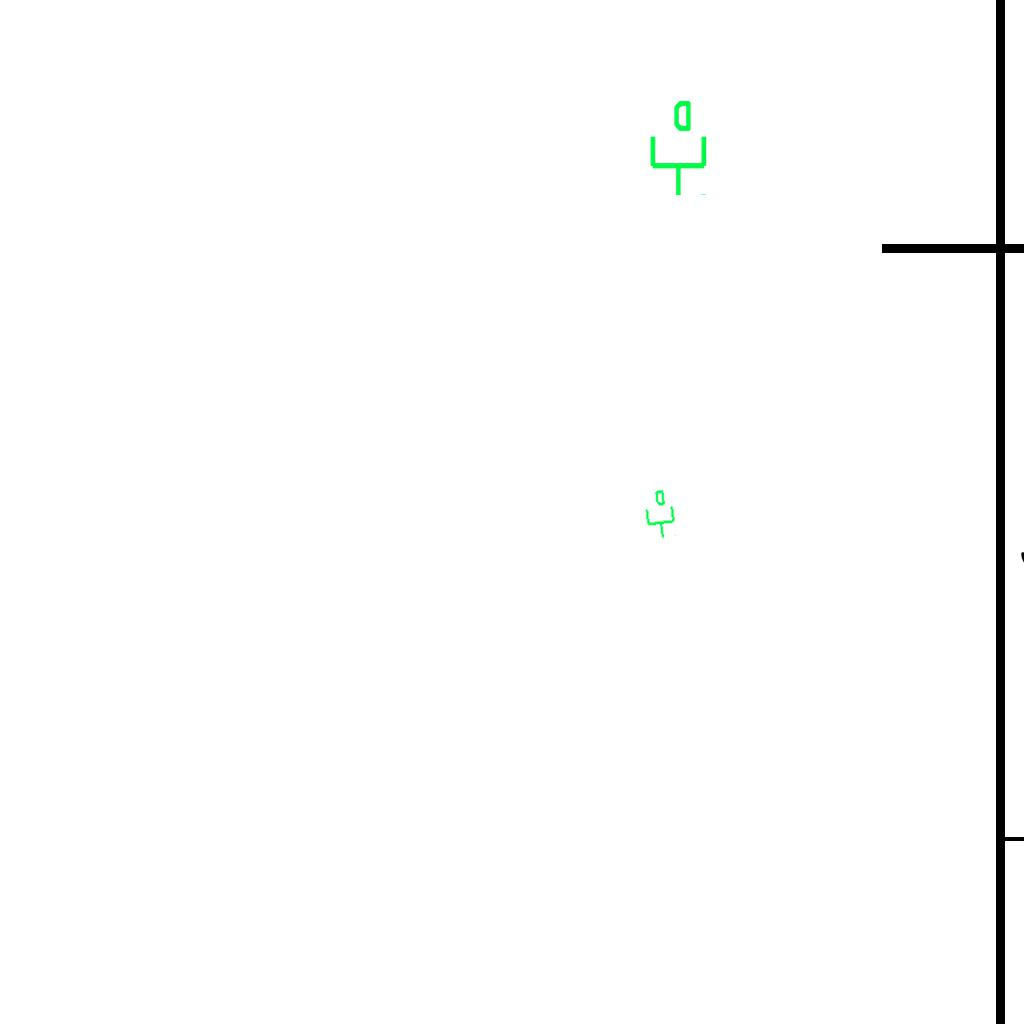Datenanschluss_einfach: (642, 98, 711, 198), (639, 487, 679, 541)
